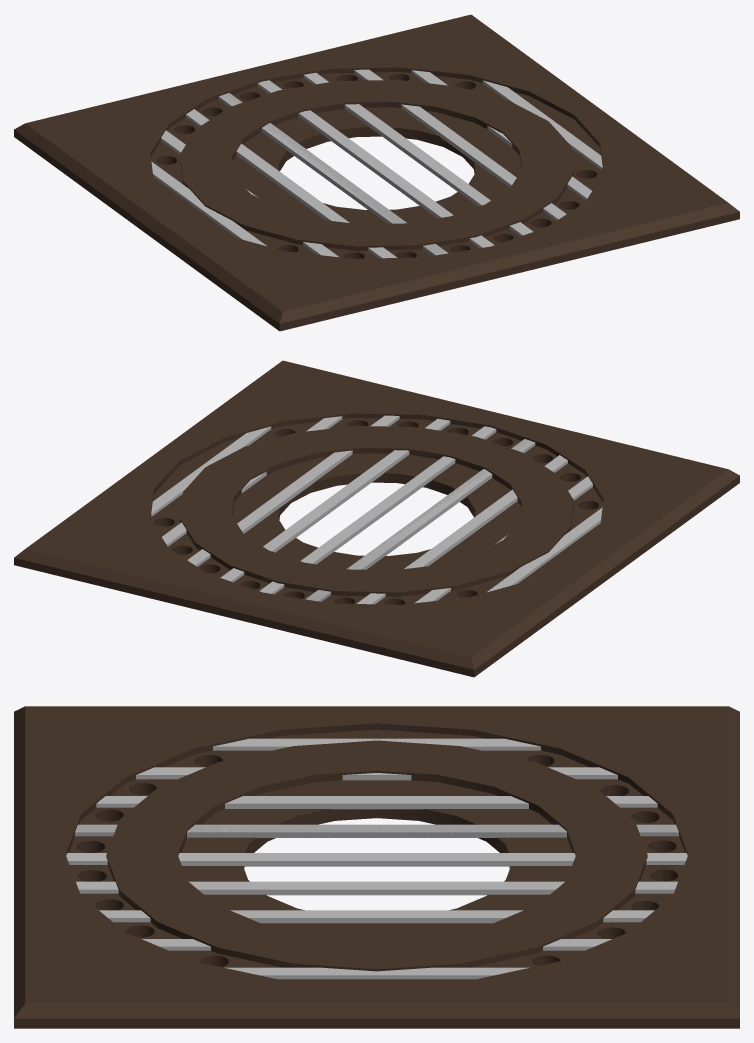
Rendered from NOMOON_OBJ_GASTRAP_001.fbx.
3 views of the same model, one above another, from view 1: azimuth 30°, elevation 25°; view 2: azimuth 150°, elevation 25°; view 3: azimuth 270°, elevation 25° (orthographic). The views are drawn at different scales.
Parts seen in each view (by area): view 1: pCube21, group1_pasted__pCube4, pasted__pasted__pCube4; view 2: pCube21, group1_pasted__pCube4, pasted__pasted__pCube4; view 3: pCube21, group1_pasted__pCube4, pasted__pasted__pCube4.
Part boxes in pixels (x1,y1,x2,y2): pCube21: (14, 14, 739, 331); group1_pasted__pCube4: (151, 69, 602, 258); pasted__pasted__pCube4: (219, 93, 447, 255); pCube21: (14, 360, 739, 677); group1_pasted__pCube4: (151, 415, 602, 604); pasted__pasted__pCube4: (306, 439, 533, 601); pCube21: (14, 706, 739, 1028); group1_pasted__pCube4: (66, 738, 687, 979); pasted__pasted__pCube4: (75, 824, 678, 837).
Bounding box in the file's own units: 5.36 × 0.1667 × 5.36.
